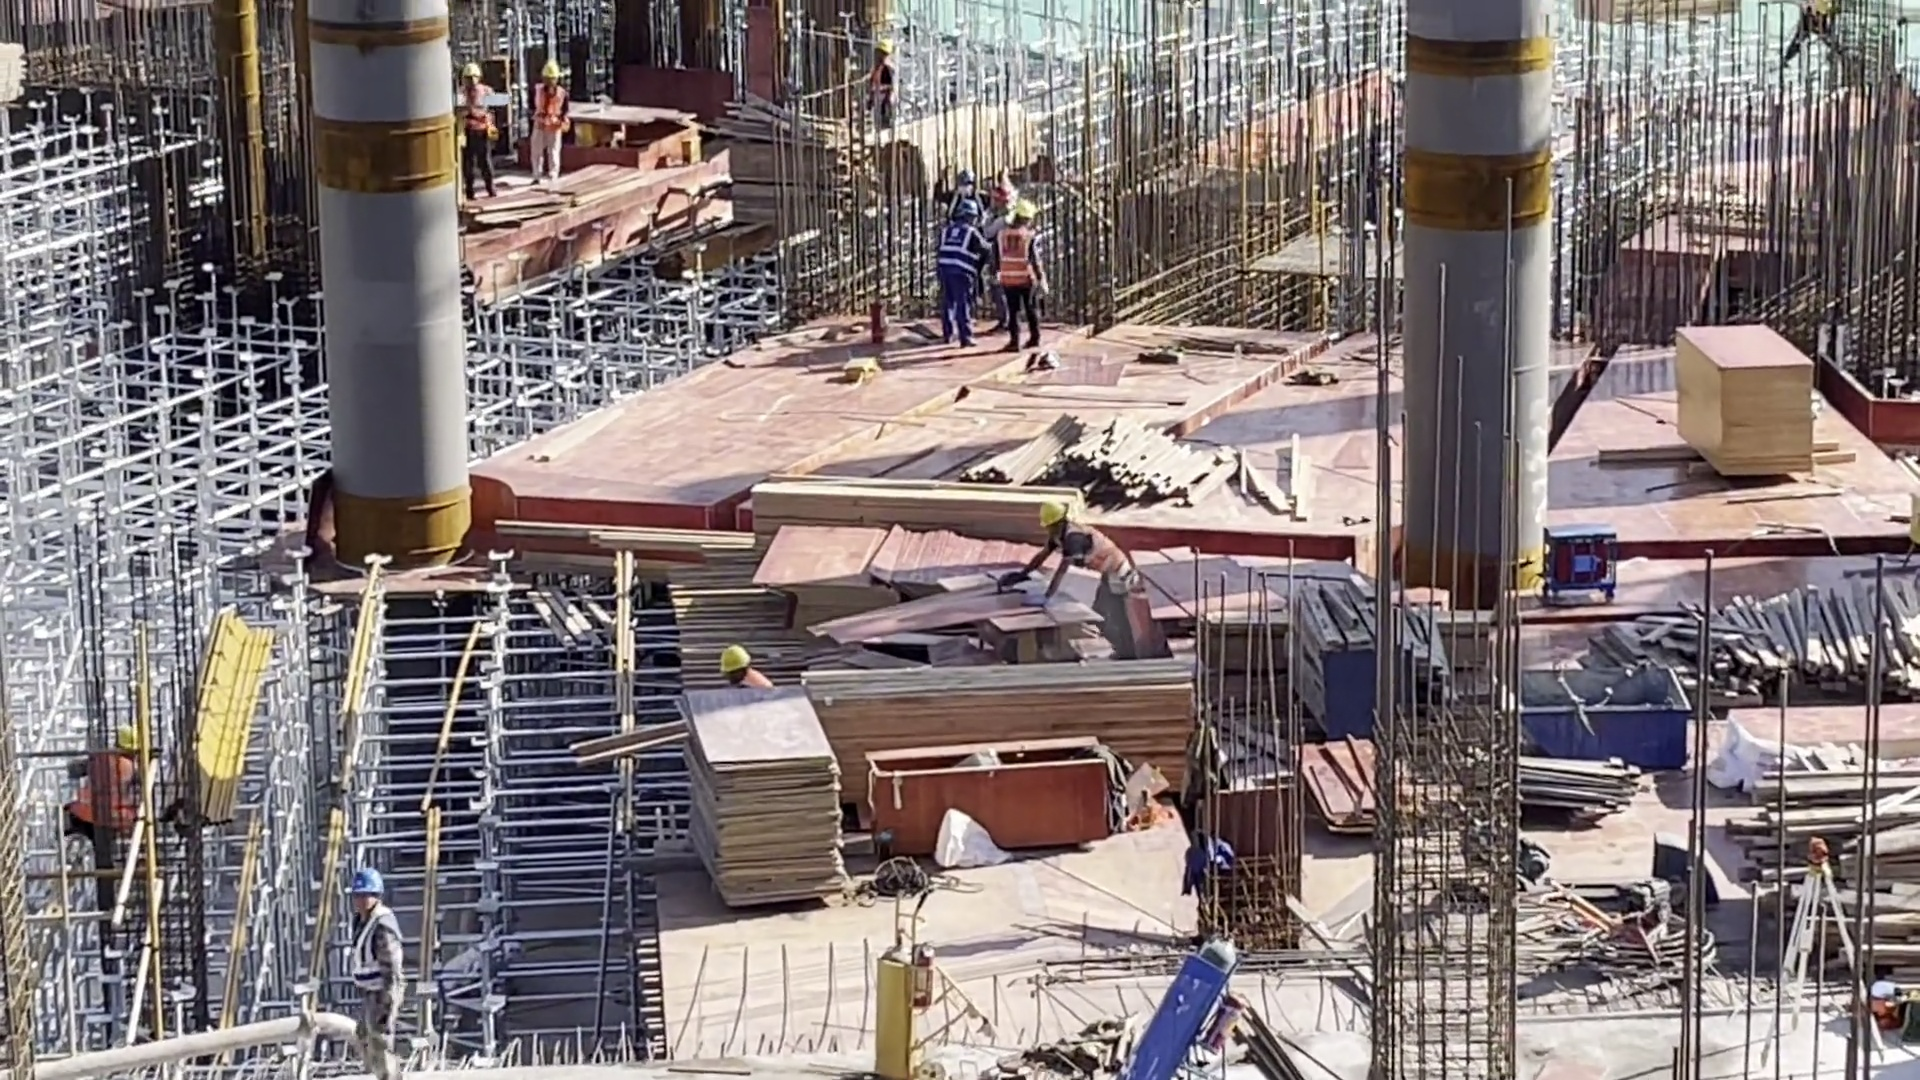board: (671, 691, 845, 909), (1675, 326, 1818, 486), (748, 486, 881, 599), (1305, 733, 1389, 838)
cutter: (925, 565, 1087, 665), (552, 100, 707, 176)
ebox: (1905, 494, 1920, 563)
helmet: (343, 867, 386, 897), (1034, 499, 1066, 536), (719, 645, 750, 677), (954, 197, 978, 219), (540, 58, 563, 80), (1011, 201, 1036, 220), (460, 62, 481, 80), (872, 40, 894, 55), (953, 170, 975, 186)
hopper: (1509, 665, 1692, 767)
person: (1032, 495, 1159, 663), (326, 861, 411, 1080), (74, 720, 142, 861), (994, 197, 1042, 356), (936, 196, 982, 343), (449, 59, 495, 197), (522, 57, 569, 179), (1778, 1, 1852, 59), (718, 644, 772, 691), (934, 164, 977, 204), (866, 34, 896, 91)
vest: (348, 908, 398, 1006), (1074, 525, 1138, 593), (935, 224, 981, 277), (998, 229, 1034, 290), (460, 83, 492, 134), (534, 86, 566, 133)
wood: (1551, 582, 1920, 716), (1728, 744, 1920, 987), (798, 662, 1196, 749), (964, 411, 1307, 509), (720, 99, 867, 238), (744, 478, 1082, 537), (873, 99, 1040, 190), (1, 37, 29, 105)
